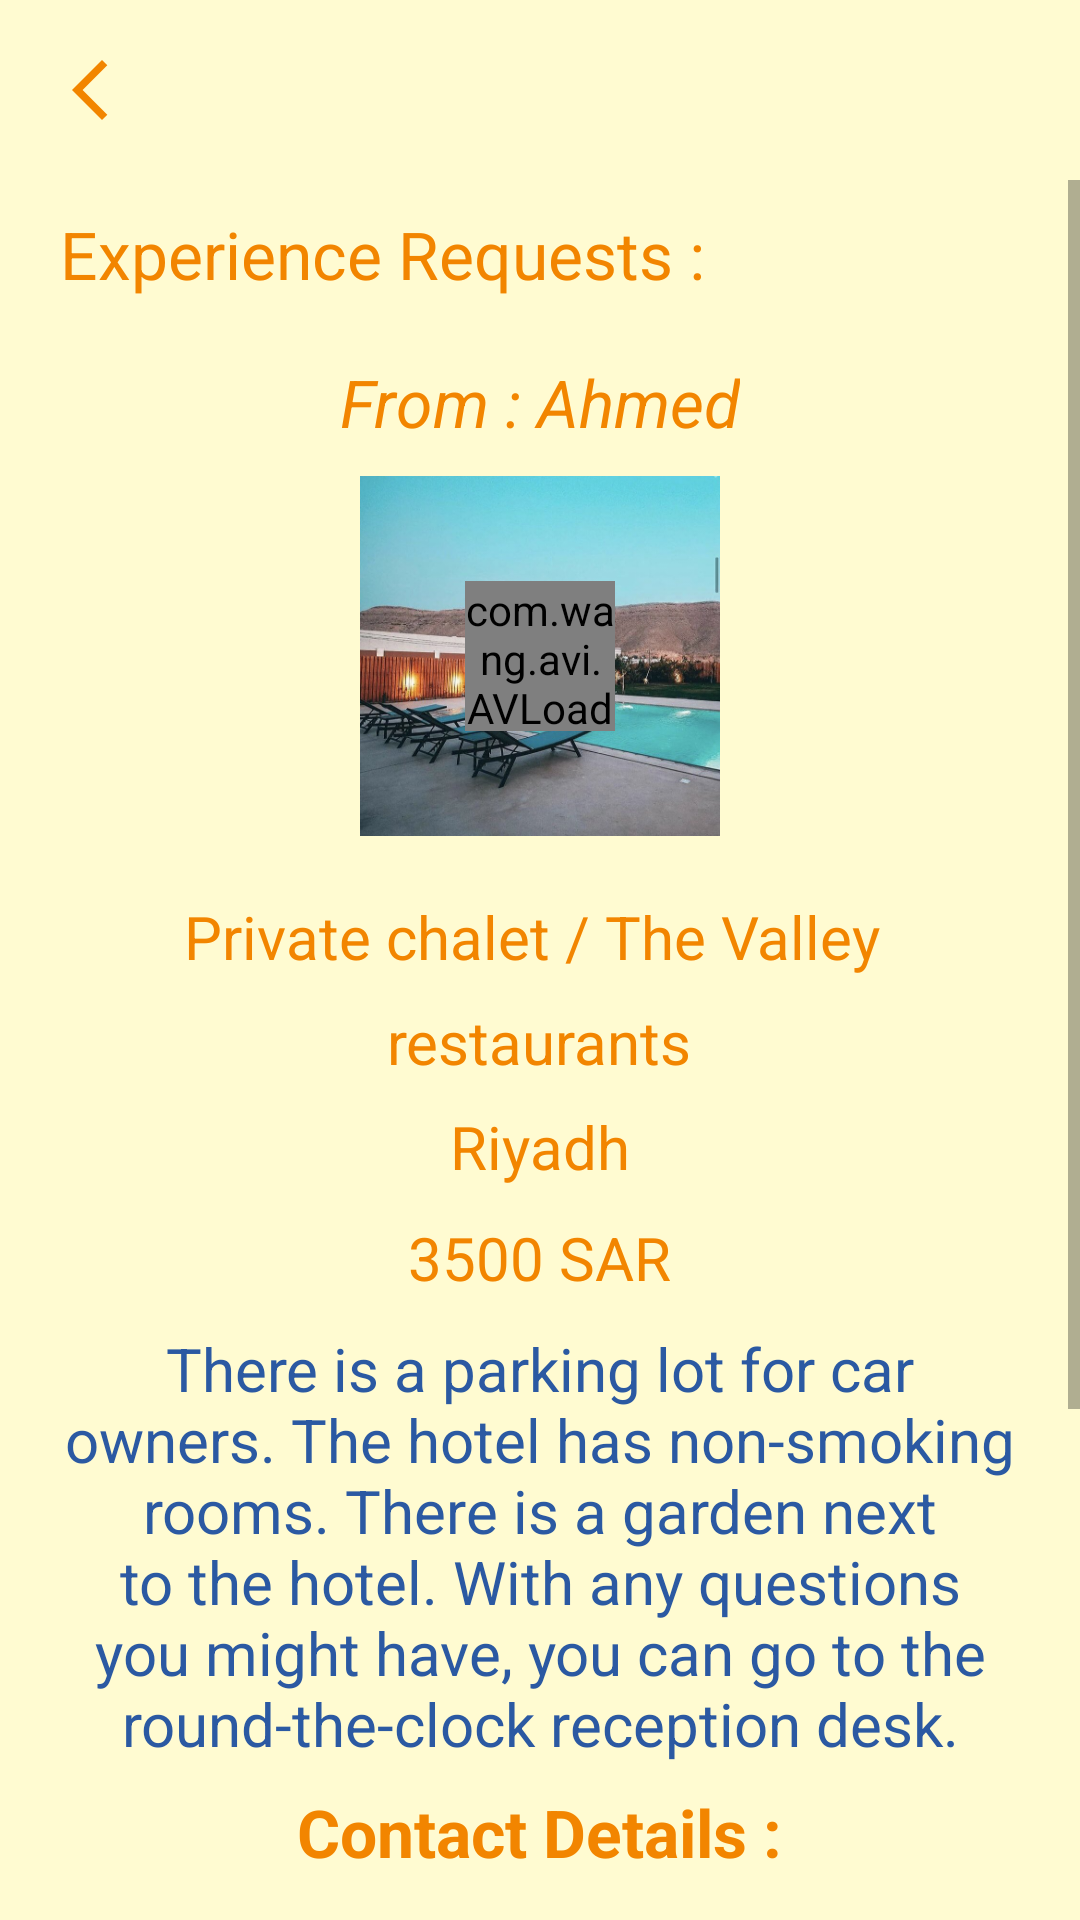

Icon bounding boxes for this 1080 × 1920 phone screenshot, format (x1, y1, x2, y2):
back: (72, 60, 107, 120)
